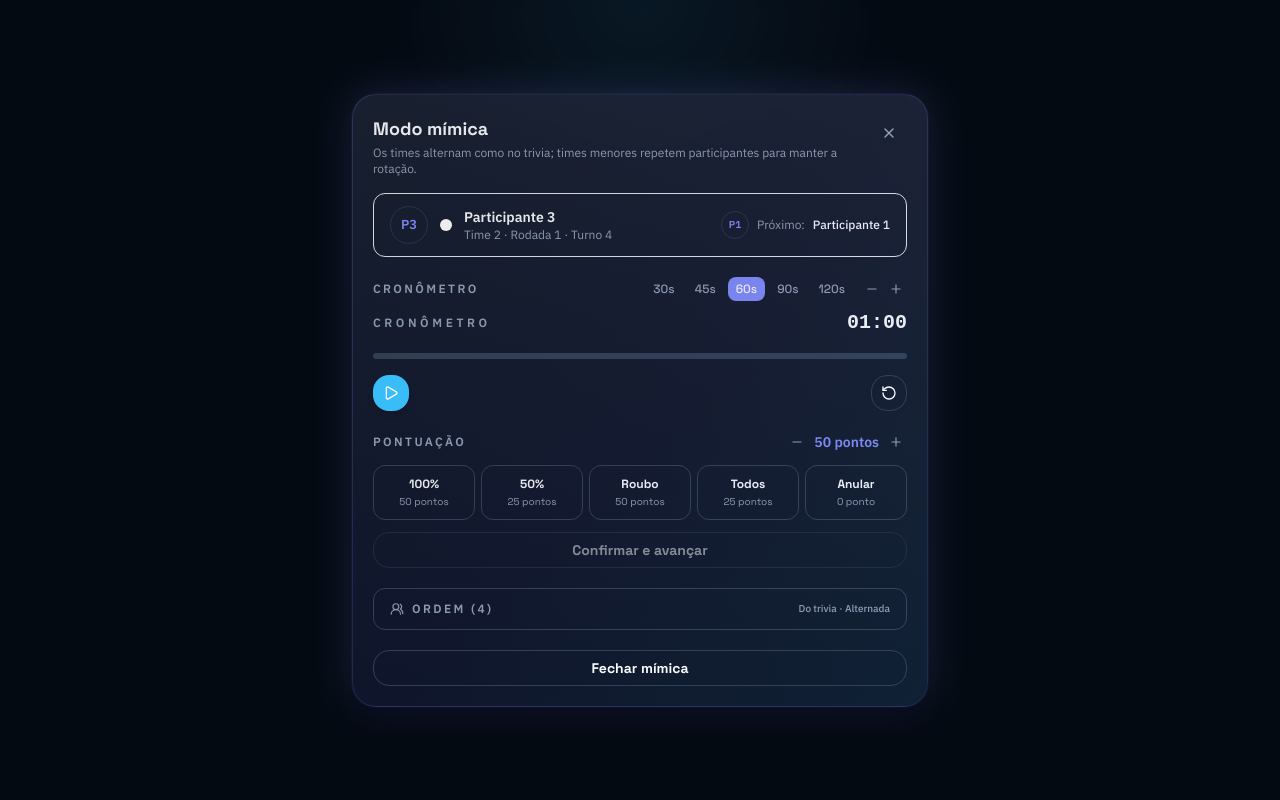
Scenario: MimicaModal › não deve fechar automaticamente após último participante
What coordinates should you click on to do the following:
click the text "100%"
I would click on:
 (424, 484)
Its box is top-left (409, 476), bottom-right (439, 492).
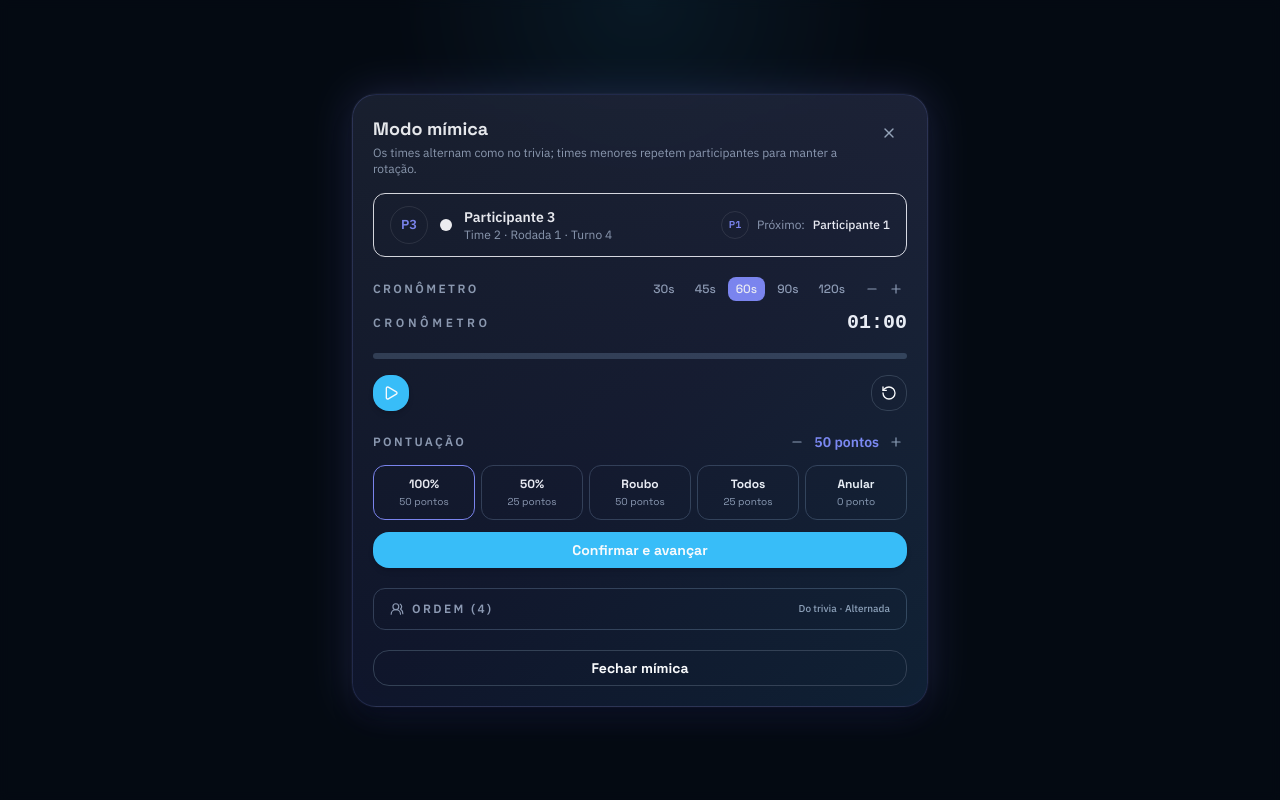
What coordinates should you click on to do the following:
click the button "Confirmar e avançar"
I would click on:
 (640, 550)
Its box is top-left (373, 532), bottom-right (907, 568).
Wait 500 ms
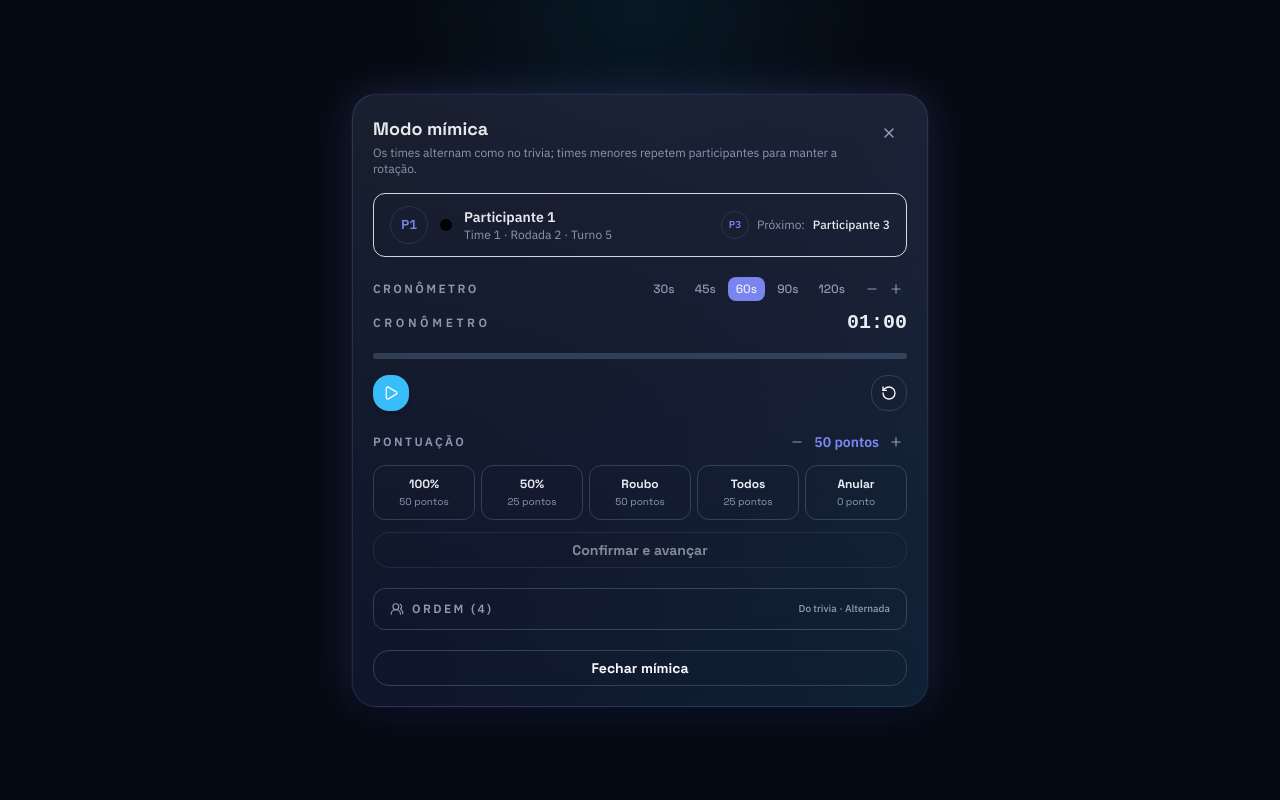
Check: the text with test id "mimica-active-participant" reads "Participante 1", box top-left (464, 208), bottom-right (556, 226)
